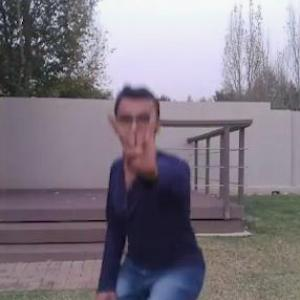takeoff-hand: (98, 95, 169, 171)
